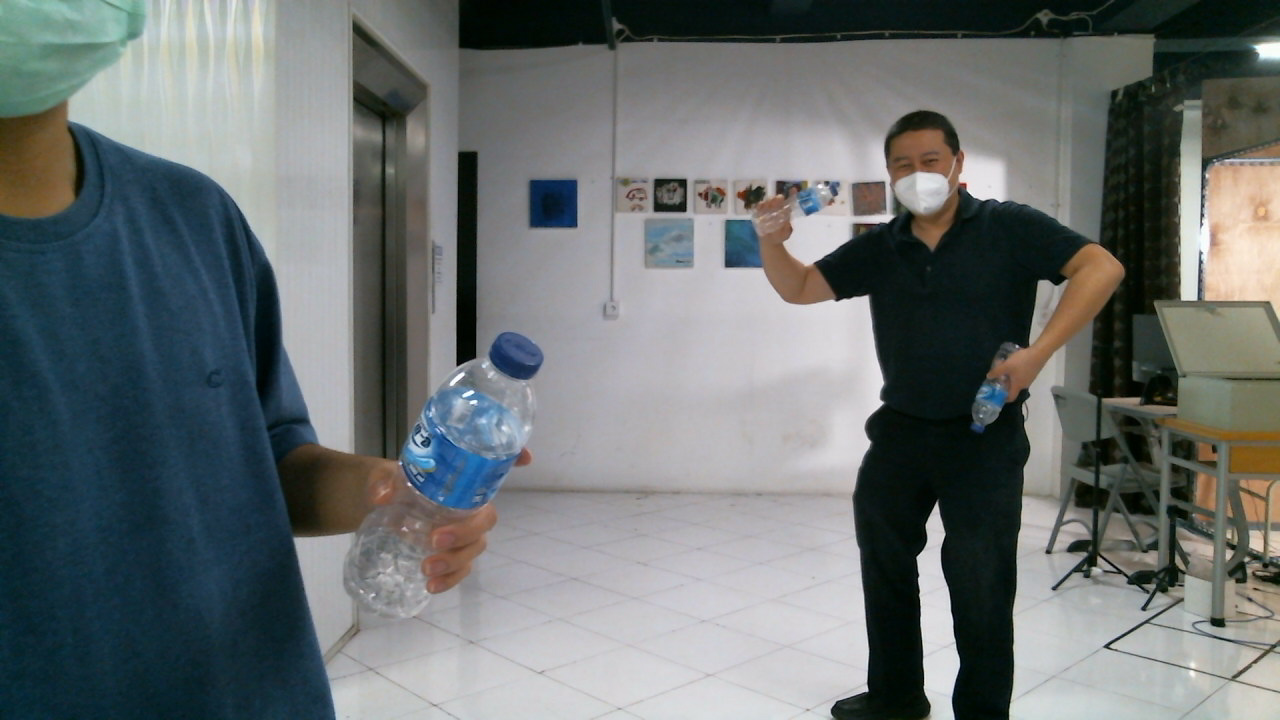Bottle: (346, 327, 545, 617)
